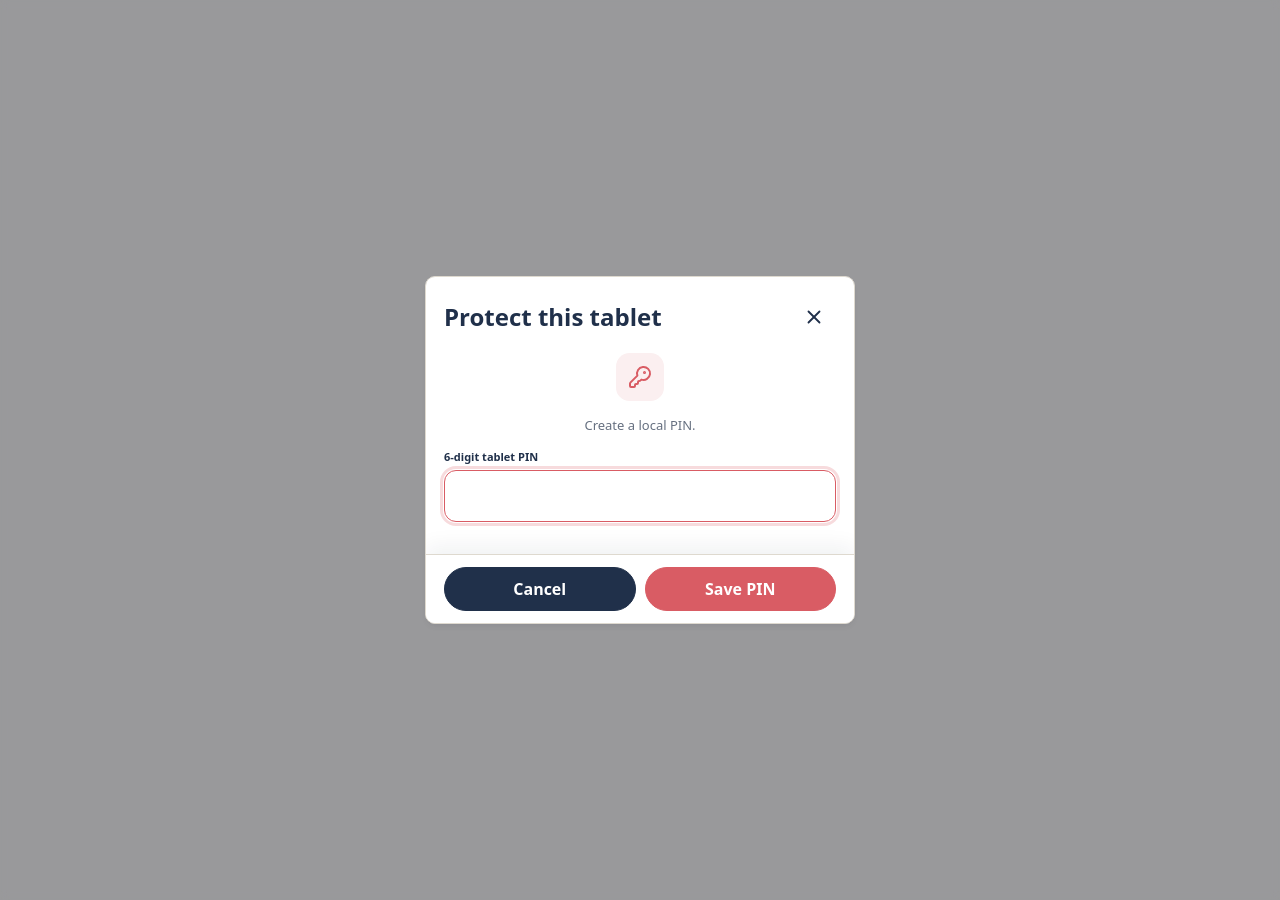
Test: EventPinDialog › rejects an incomplete PIN before submission
The width and height of the screenshot is (1280, 900).
Type "12345" into the password field labelled "6-digit tablet PIN" at (640,496), box [444,470,836,522]
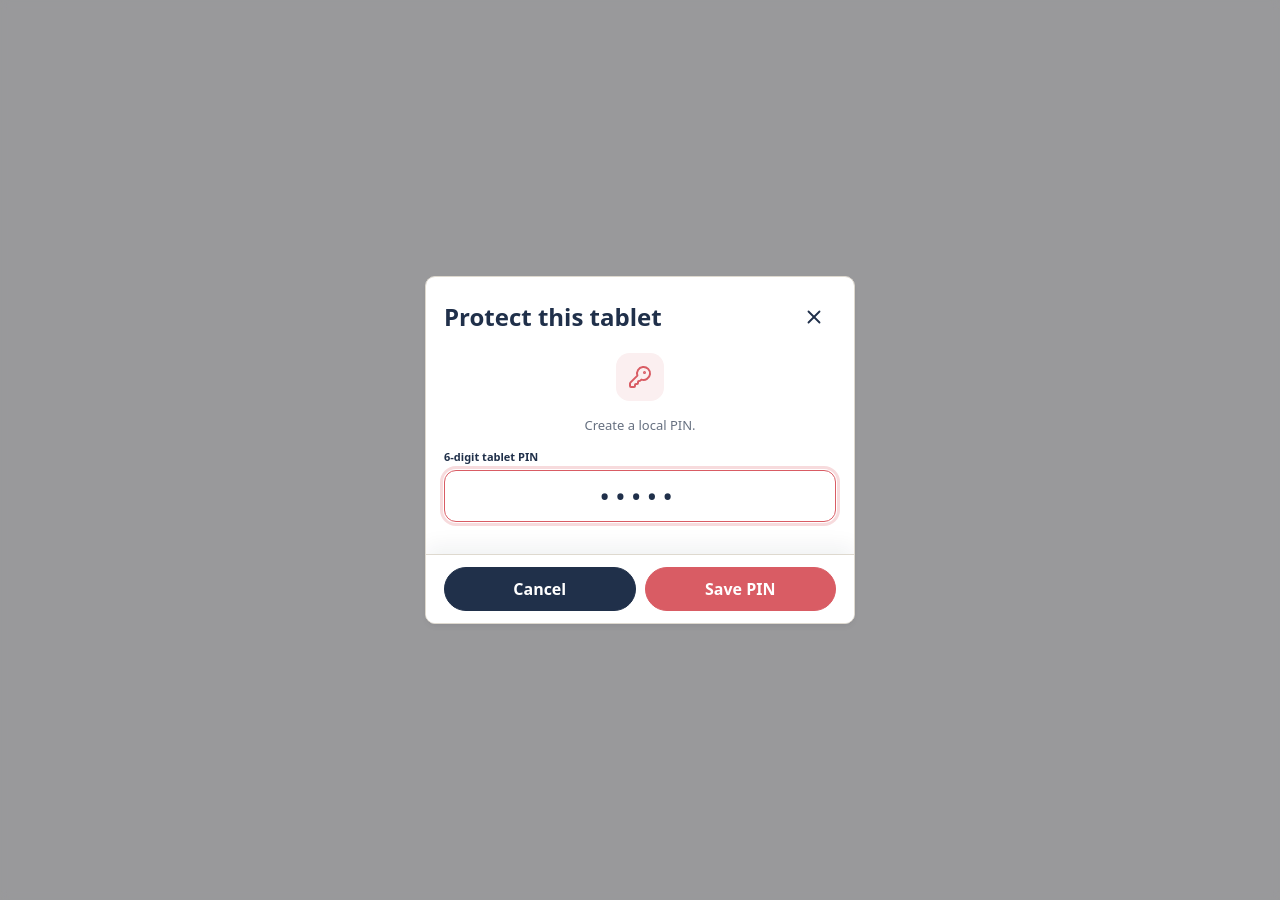
Click the button "Save PIN" at (740,589), box [644,567,836,611]
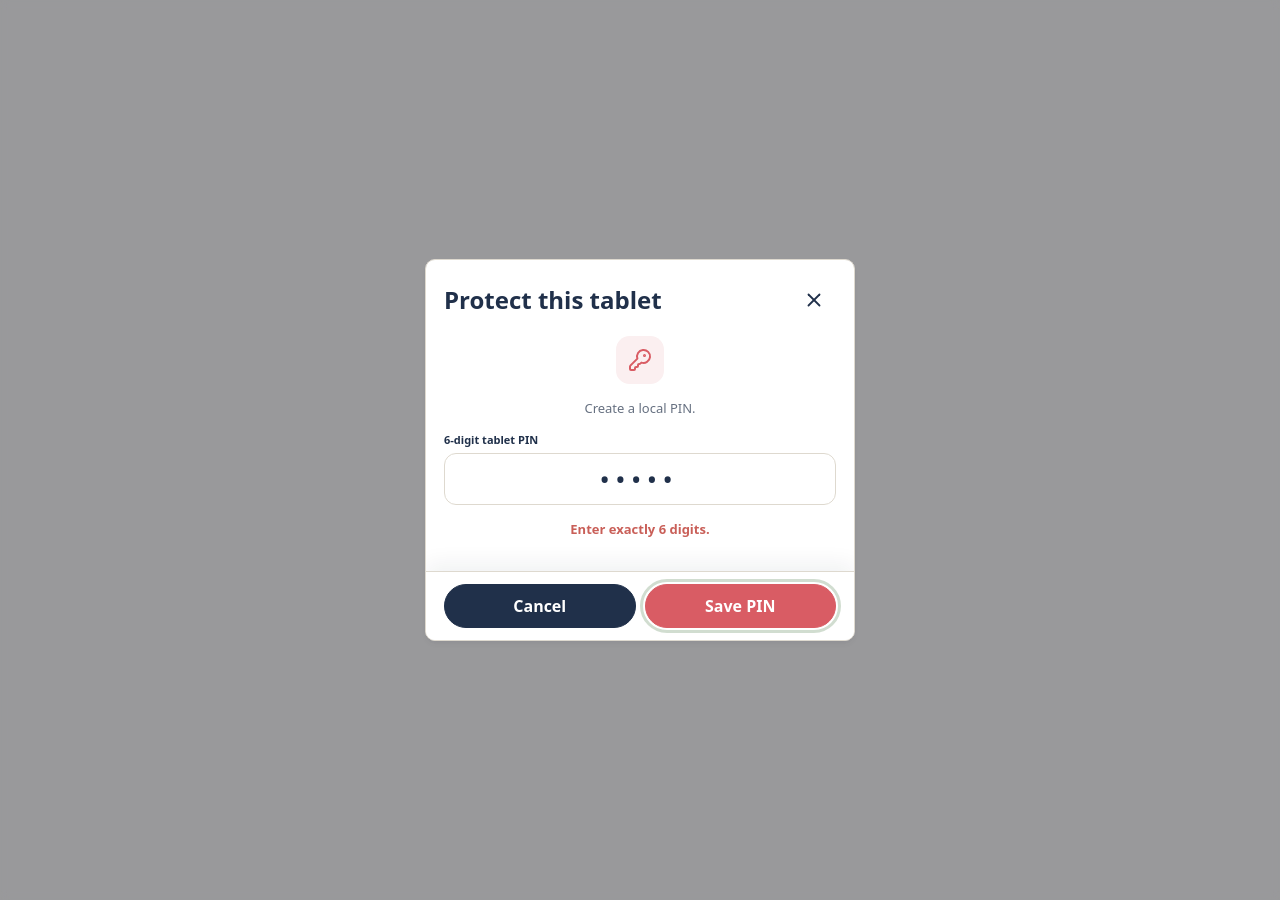
Now the message reads "Enter exactly 6 digits.", box [570,520,710,538]
